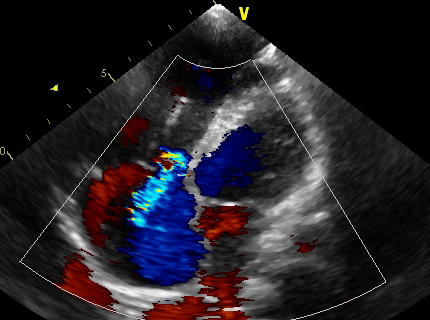TR: (129, 150, 188, 228)
